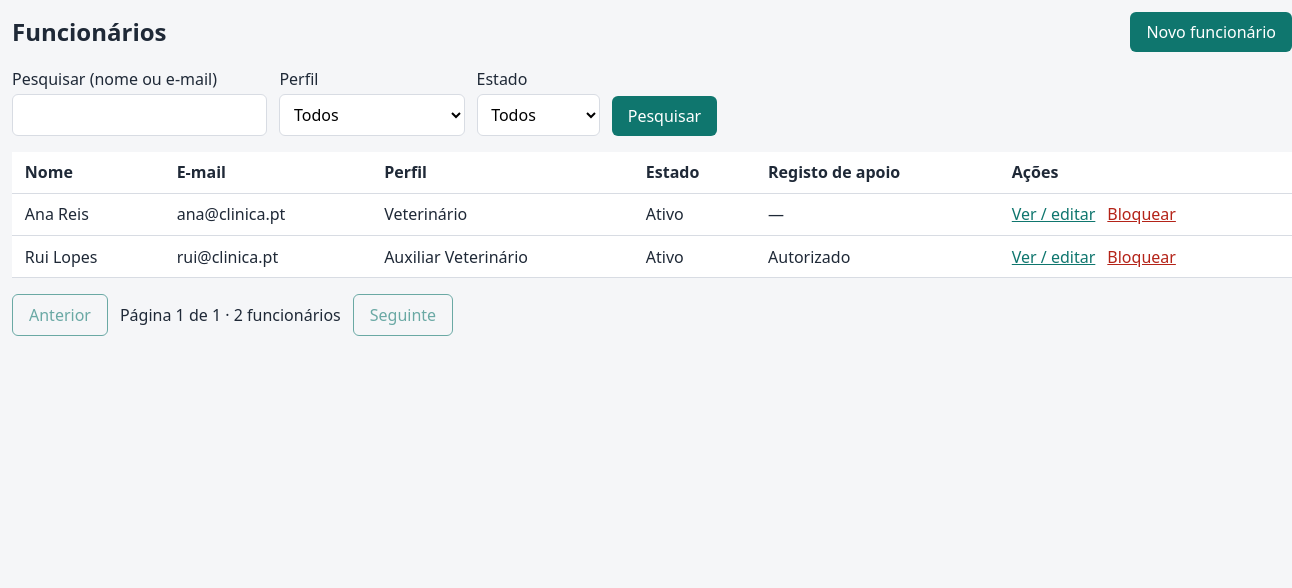
it: W02 — lista de funcionários › bloqueia uma conta depois de confirmar, com motivo
Click the button "Bloquear" in the row of "Ana Reis" at (1142, 214), box [1107,203,1176,225]
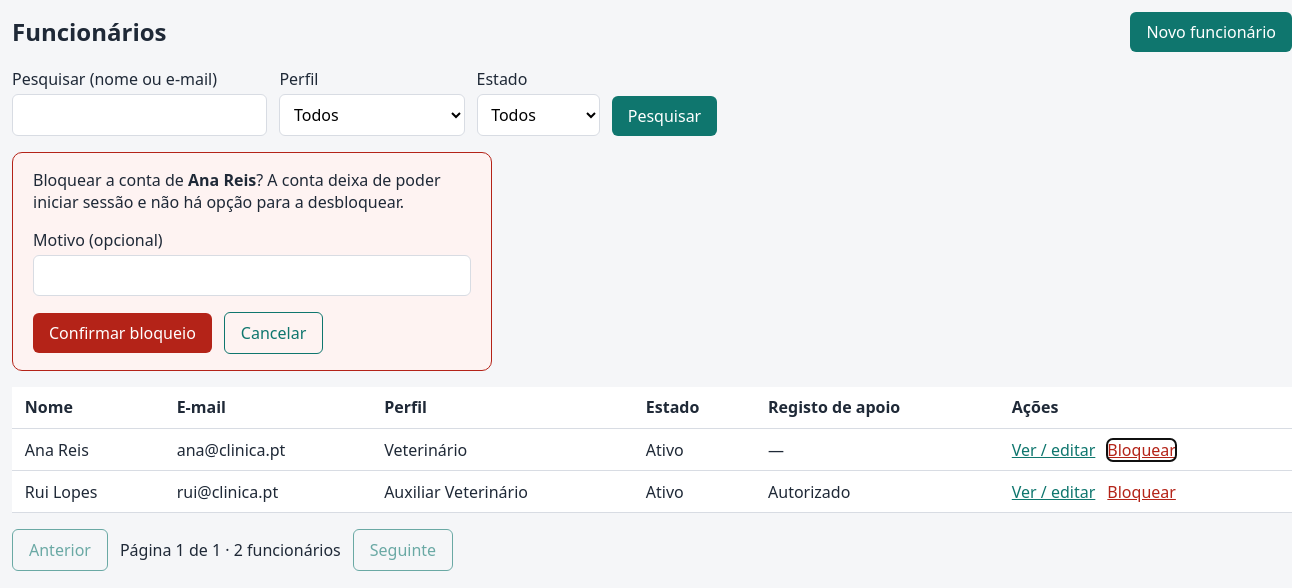
Type "Saiu." into the field labelled "Motivo (opcional)" at (252, 275), box [33,255,471,296]
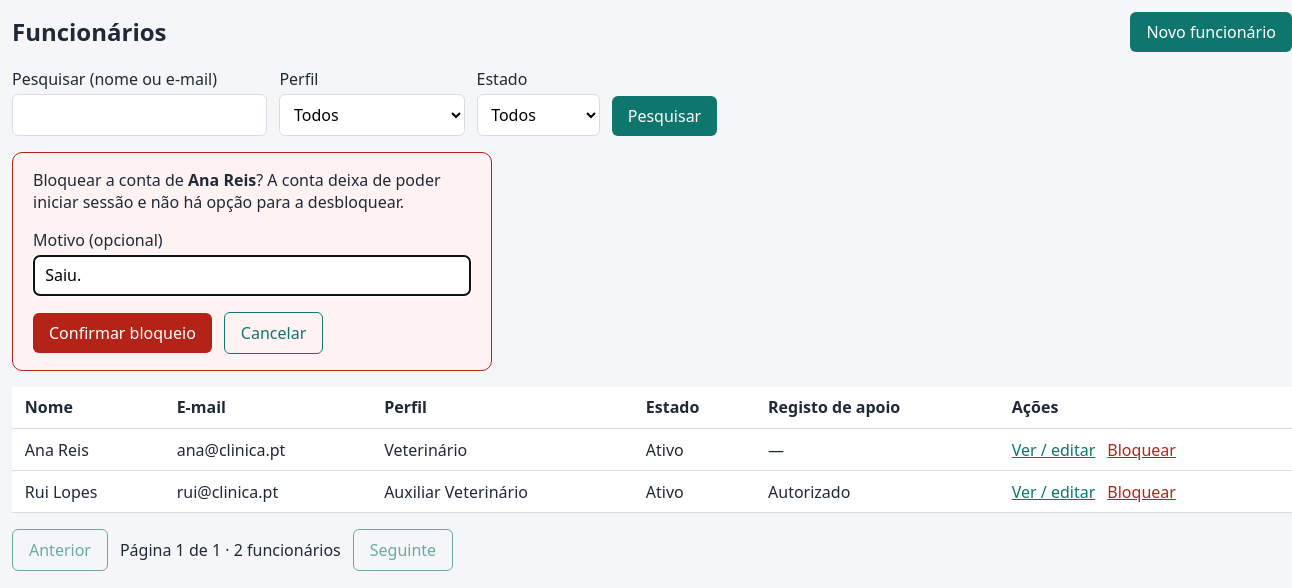
Click the button "Confirmar bloqueio" at (122, 333), box [33,313,212,353]
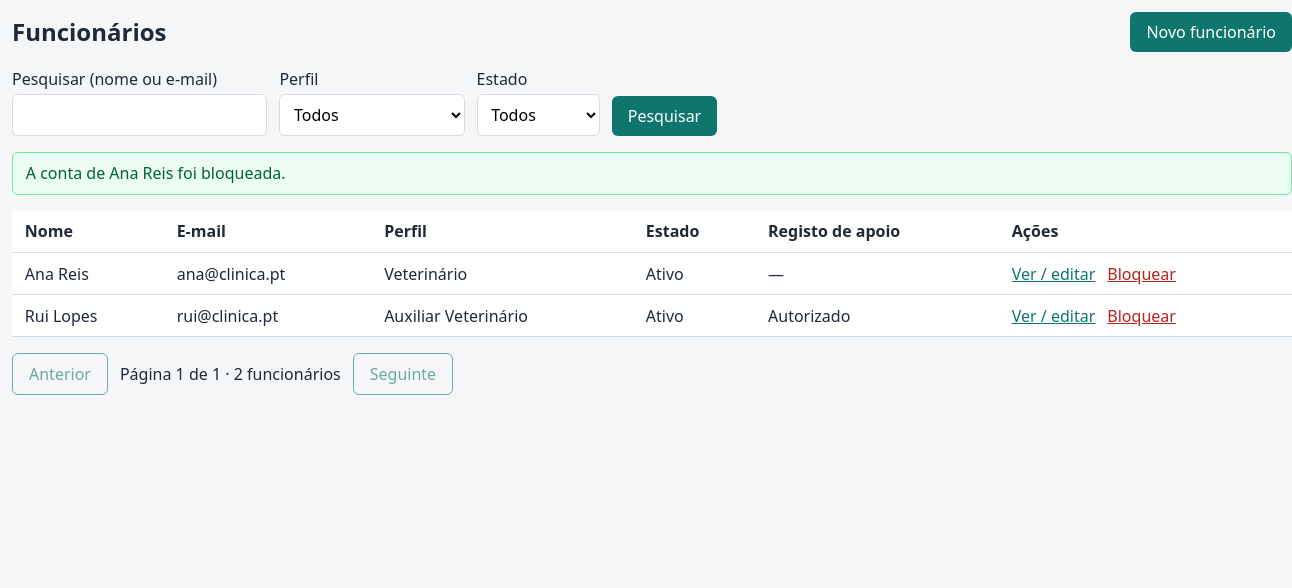
Check: the text "A conta de Ana Reis foi bloqueada." is shown, box [12,152,1291,195]
